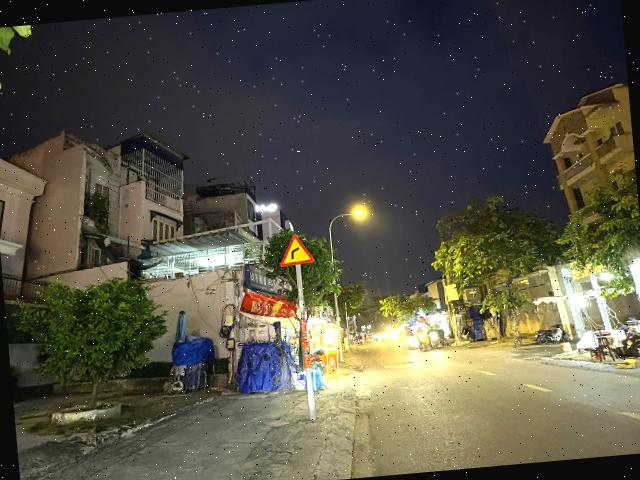cho-ngoat-nguy-hiem-ben-trai: (277, 231, 315, 267)
